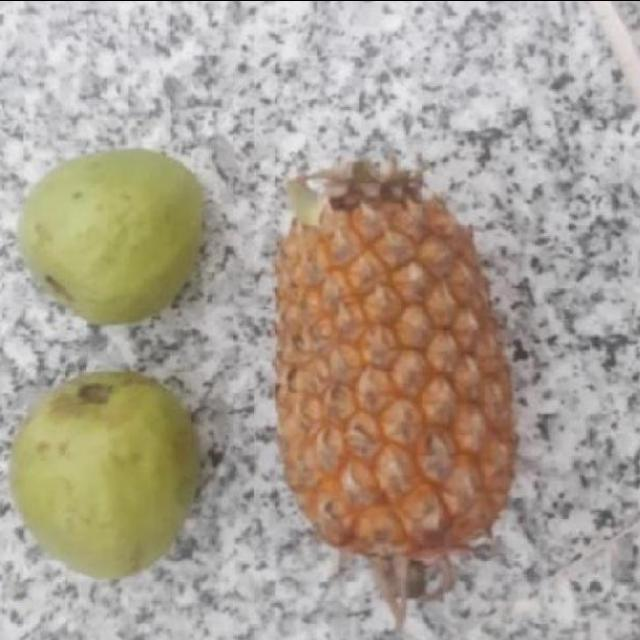guava: (10, 360, 196, 577), (19, 140, 198, 327)
pineapple: (266, 144, 508, 617)
